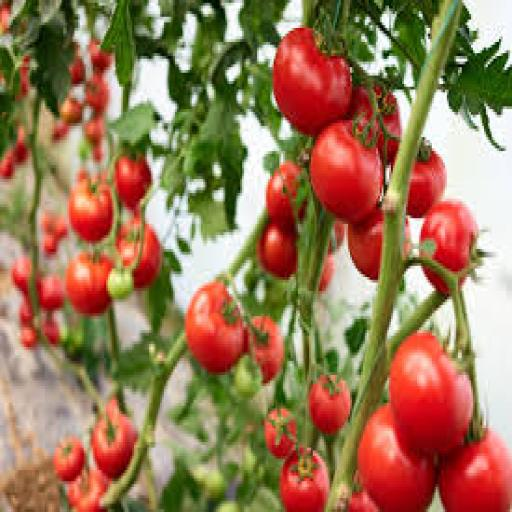tomato: (390, 333, 472, 456), (274, 28, 351, 134), (358, 406, 435, 511), (311, 121, 383, 223), (440, 431, 511, 511), (185, 283, 245, 374), (421, 202, 478, 271), (280, 448, 329, 511), (66, 252, 113, 316), (69, 180, 113, 243), (92, 412, 134, 478), (408, 149, 446, 218), (349, 208, 383, 279), (310, 375, 351, 433), (248, 317, 284, 383), (257, 222, 297, 279), (267, 163, 301, 229), (375, 87, 402, 162), (114, 157, 152, 209), (133, 224, 161, 288), (265, 409, 297, 458), (53, 437, 85, 481), (75, 468, 107, 511), (233, 356, 262, 397), (86, 73, 109, 114), (40, 275, 65, 310), (107, 269, 134, 299), (88, 40, 111, 72), (12, 255, 31, 293), (203, 471, 227, 500), (60, 96, 83, 125), (69, 45, 85, 86), (84, 115, 104, 145), (349, 490, 377, 511), (319, 255, 335, 290), (15, 126, 29, 165), (17, 56, 29, 100), (41, 317, 59, 346), (243, 445, 258, 478), (330, 222, 346, 251), (21, 325, 39, 349), (68, 476, 81, 509), (0, 149, 14, 179), (19, 297, 33, 324), (43, 233, 57, 257), (0, 3, 11, 33), (53, 121, 68, 142), (40, 210, 53, 232), (54, 216, 67, 237), (216, 501, 240, 511), (94, 143, 104, 165)
